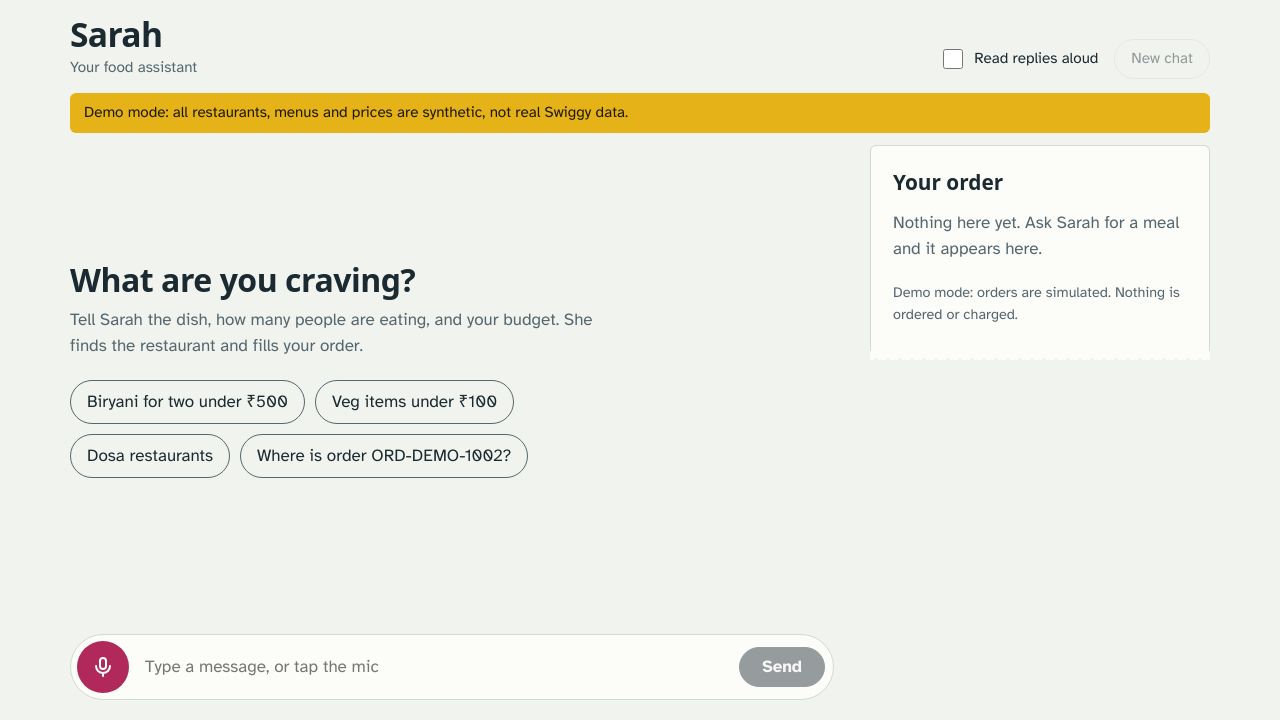
Test: ChatApp: voice › explains microphone errors
Click the button named "Talk to Sarah". click: (103, 667)
box: 77,641 -> 129,693
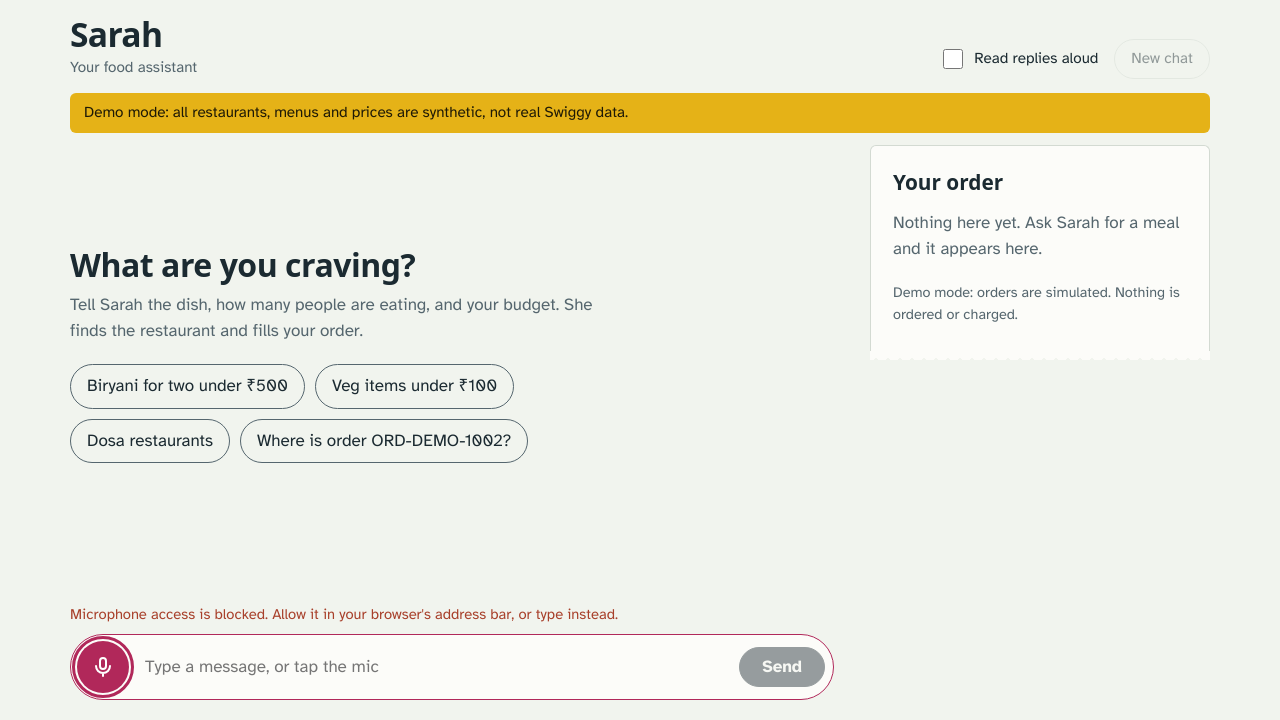
Now the message shows "Microphone access is blocked", box 70,605 -> 618,623
